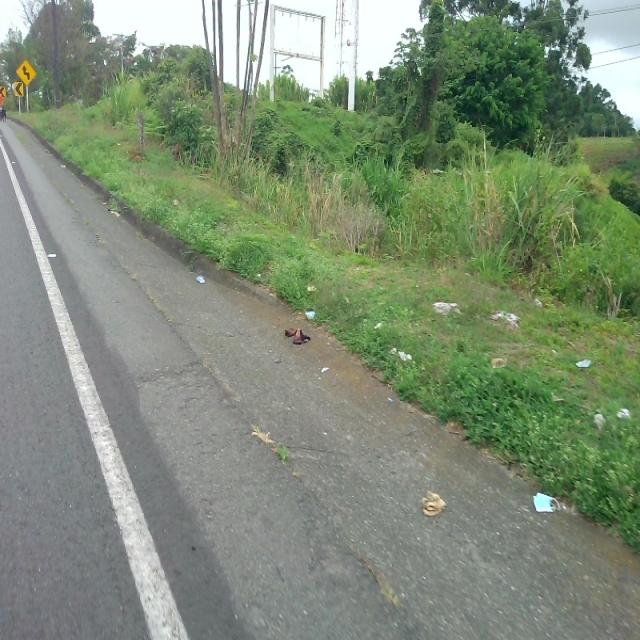DITCH: (2, 114, 638, 638)
